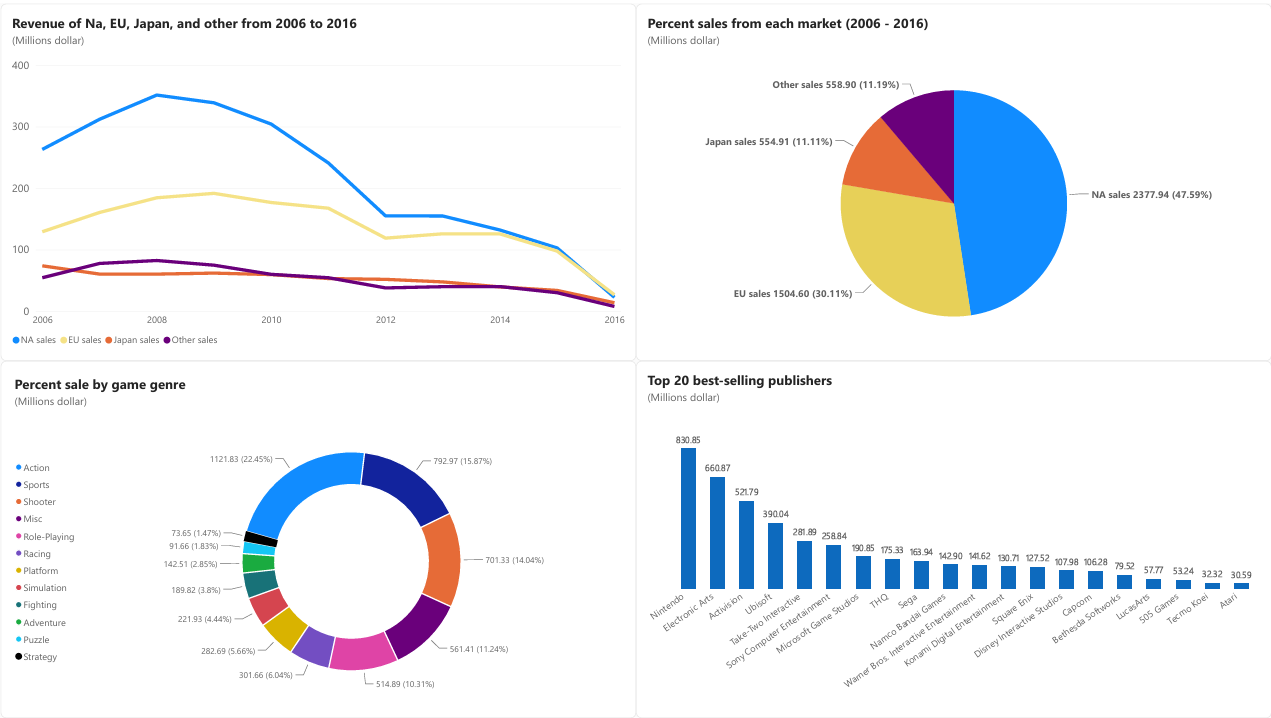

Layout of this report page (visuals, bound fields, positions):
{"tool":"powerbi","page":{"name":"Page 1","canvas":[1920,1080],"ordinal":0},"visuals":[{"type":"lineChart","title":"Revenue of Na, EU, Japan, and other from 2006 to 2016","fields":{"Category":["video_games_sales.year"],"Y":["Sum(video_games_sales.na_sales)","Sum(video_games_sales.eu_sales)","Sum(video_games_sales.jp_sales)","Sum(video_games_sales.other_sales)"]},"box":[0,0,960,539.8],"z":0},{"type":"pieChart","title":"Percent sales from each market (2006 - 2016)","fields":{"Y":["Sum(video_games_sales.na_sales)","Sum(video_games_sales.eu_sales)","Sum(video_games_sales.jp_sales)","Sum(video_games_sales.other_sales)"]},"box":[960,0,960,539.8],"z":1000},{"type":"donutChart","title":"Percent sale by game genre","fields":{"Category":["video_games_sales.genre"],"Y":["Sum(video_games_sales.total_4_market)"]},"box":[0,550,960,530],"z":1001},{"type":"clusteredColumnChart","title":"Top 20 best-selling publishers","fields":{"Category":["video_games_sales.publisher"],"Y":["Sum(video_games_sales.total_4_market)"]},"box":[960,539.8,960,539.8],"z":1002}]}

Visuals, with their boxes in screenshot pixels (x1, y1, x2, y2), scaled from the page's 1920x1080 canvas onto the 1271x718 screenshot:
"Revenue of Na, EU, Japan, and other from 2006 to 2016" lineChart: 0:0:636:359
"Percent sales from each market (2006 - 2016)" pieChart: 636:0:1270:359
"Percent sale by game genre" donutChart: 0:366:636:717
"Top 20 best-selling publishers" clusteredColumnChart: 636:359:1270:717
